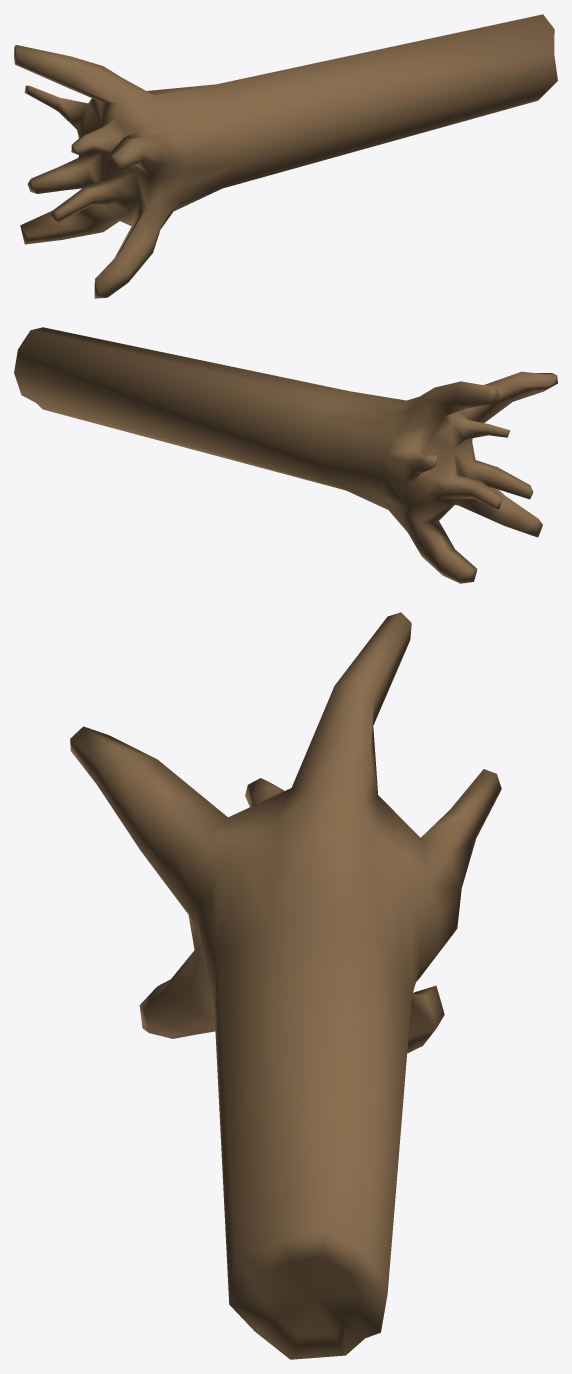
Rendered from swamp_deadtree.fbx.
3 renders of one model, top to bottom at view 1: azimuth 30°, elevation 25°; view 2: azimuth 150°, elevation 25°; view 3: azimuth 270°, elevation 25°, orthographic. The views are drawn at different scales.
Visible parts, largest first — view 1: DeadTree; view 2: DeadTree; view 3: DeadTree.
Part boxes in pixels (x1,y1,x2,y2): DeadTree: [14, 14, 557, 298]; DeadTree: [14, 327, 557, 583]; DeadTree: [70, 612, 501, 1359].
Size of the model in its own units: 3.29 by 1.29 by 1.27.
